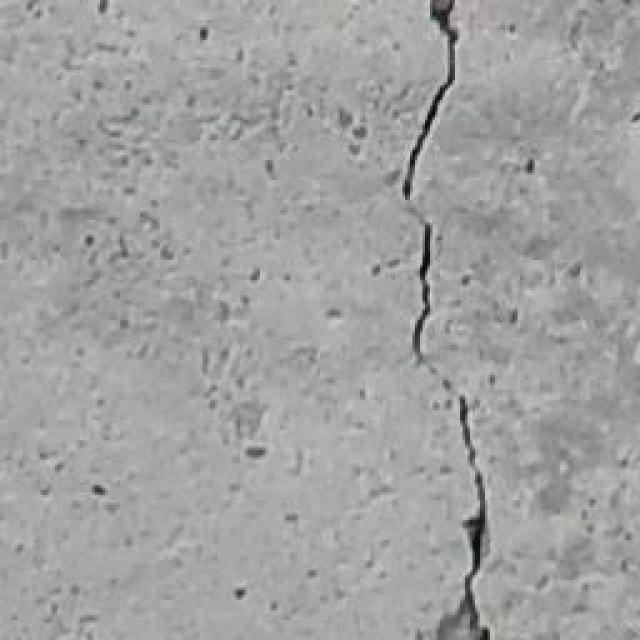concrete-crack: (401, 0, 496, 639)
